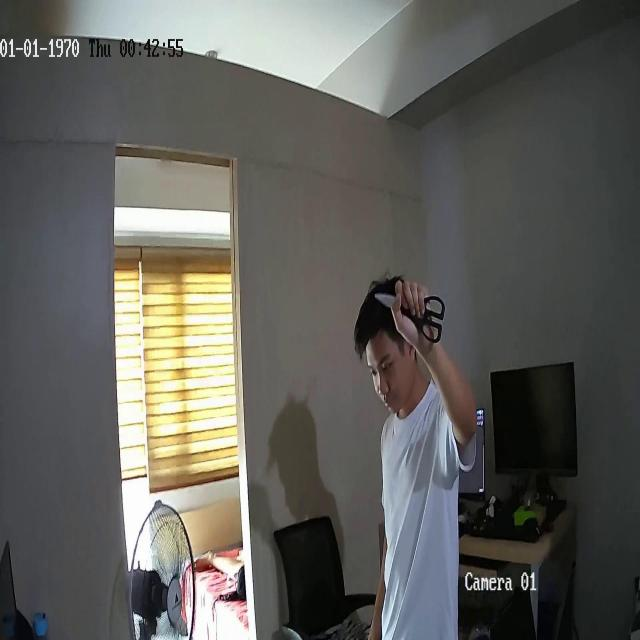scissor: (375, 292, 445, 344)
